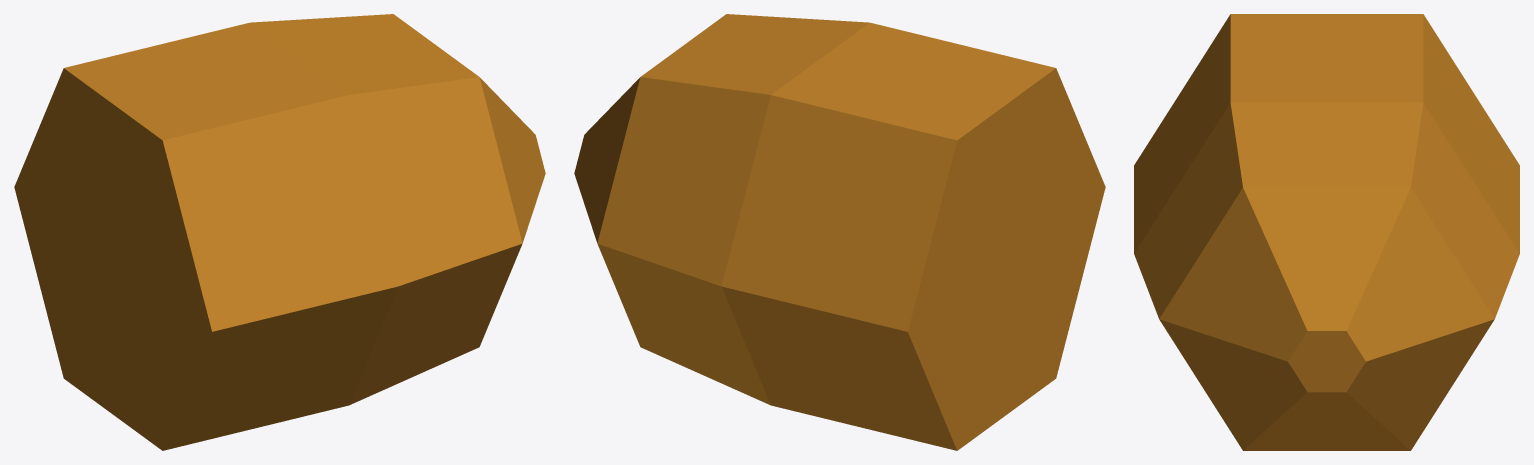
File: Bullet_02.fbx
The picture shows the model from 3 angles, left to right: view 1: azimuth 30°, elevation 25°; view 2: azimuth 150°, elevation 25°; view 3: azimuth 270°, elevation 25°; orthographic projection. The views are drawn at different scales.
Visible parts, largest first — view 1: Bullet_02; view 2: Bullet_02; view 3: Bullet_02.
Part boxes in pixels (x1,y1,x2,y2): Bullet_02: (14,14,545,450); Bullet_02: (574,14,1105,450); Bullet_02: (1134,14,1519,450).
Bounding box in the file's own units: 0.0141 × 0.0101 × 0.0117.
